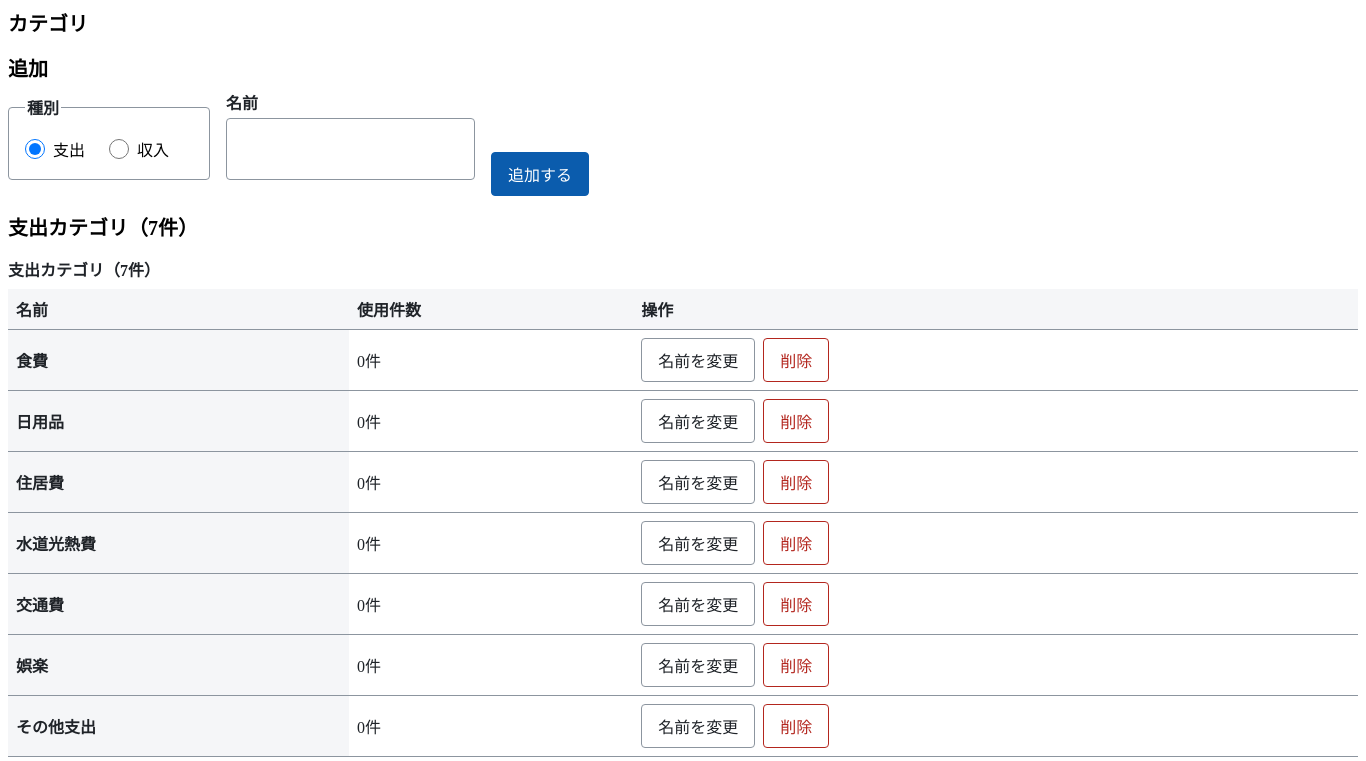
Test: カテゴリの追加 › 名前と種別を入れて追加すると、知らせを出し、一覧に加える（US3.2）
This screenshot has width=1366, height=761.
Type "架空の趣味" into the field labelled "名前". click: x=350, y=149
box: x1=226 y1=118 x2=475 y2=180
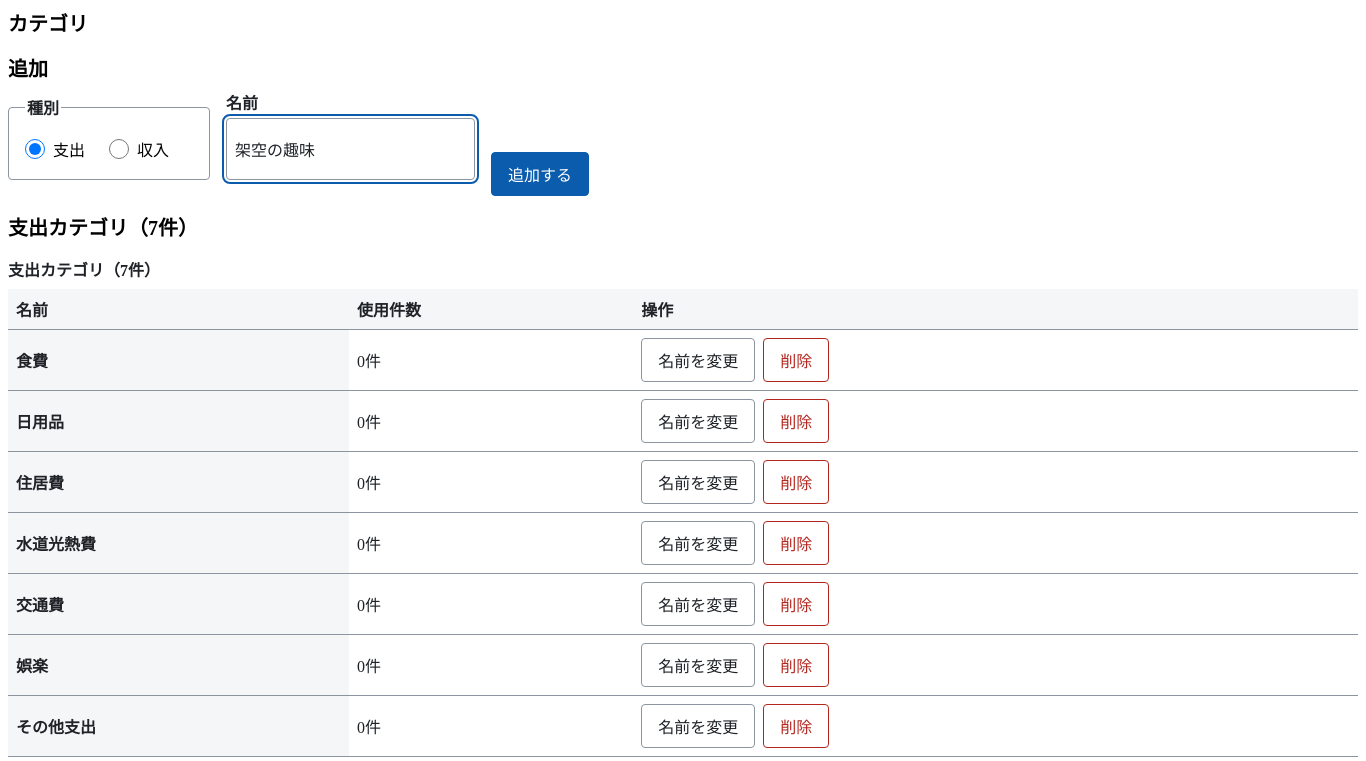
Click the button "追加する". click: x=540, y=174
box: x1=491 y1=152 x2=589 y2=196
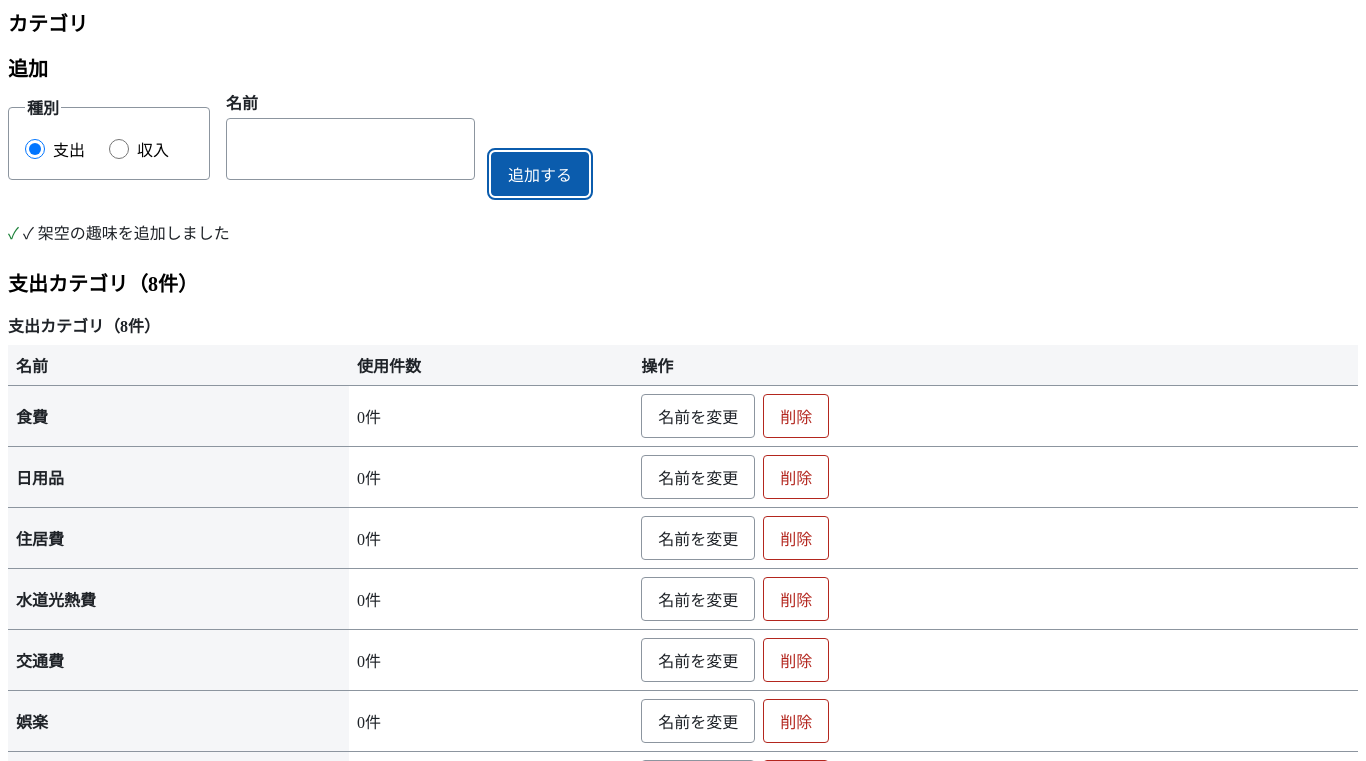
expect the text "✓ 架空の趣味を追加しました" is shown: met, box x1=23 y1=225 x2=230 y2=242
expect the field labelled "名前" is empty: met, box x1=226 y1=118 x2=475 y2=180
